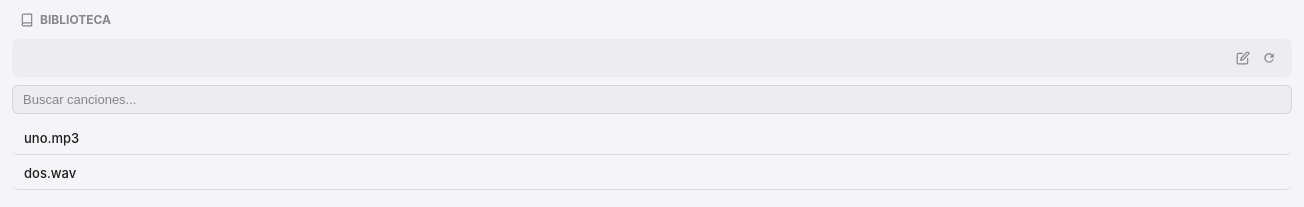
Library › should render search input and filter library songs
Expected: the list item "uno.mp3" is shown, [12, 122, 1292, 155]
Expected: the list item "dos.wav" is shown, [12, 157, 1292, 190]
Type "uno" into the field with placeholder "Buscar canciones..." at {"x": 652, "y": 100}, box [12, 85, 1292, 114]
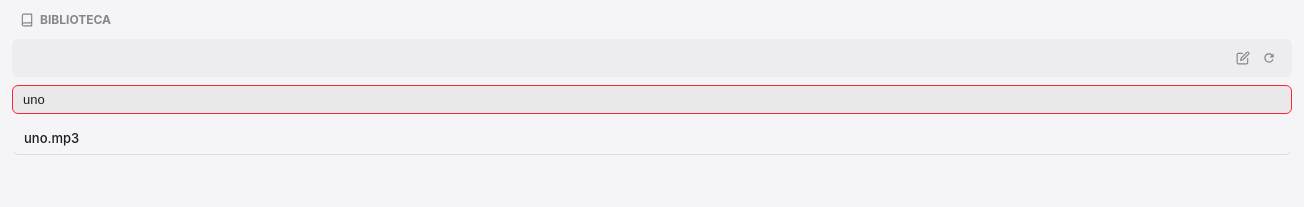
Expected: the list item "uno.mp3" is shown, [12, 122, 1292, 155]
Now the list item "dos.wav" is gone
